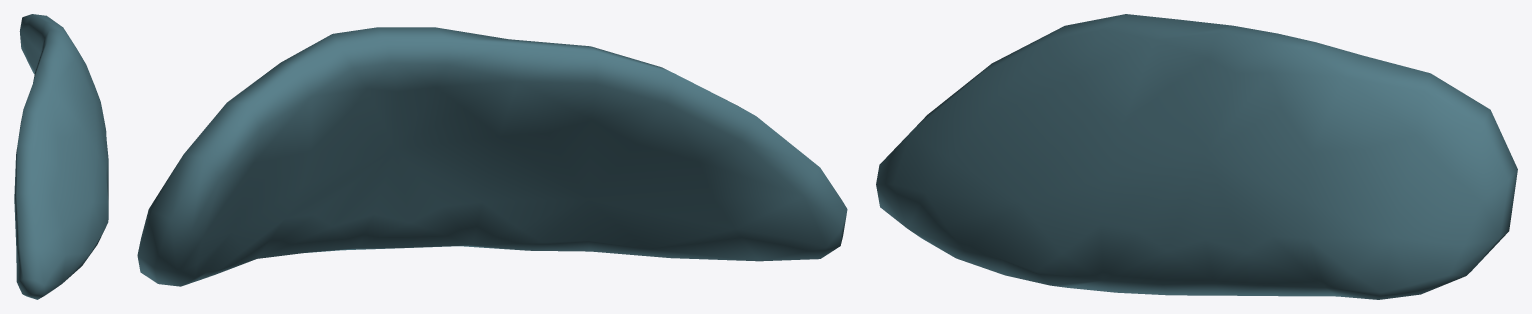
Rendered from Proximal_phalanx_4th_toe_right_001.glb.
3 views of the same model, side by side, from view 1: azimuth 30°, elevation 25°; view 2: azimuth 150°, elevation 25°; view 3: azimuth 270°, elevation 25° (orthographic). The views are drawn at different scales.
Visible parts, largest first — view 1: Proximal_phalanx_of_4th_finger_of_foot.r.001_Generated_Mesh_; view 2: Proximal_phalanx_of_4th_finger_of_foot.r.001_Generated_Mesh_; view 3: Proximal_phalanx_of_4th_finger_of_foot.r.001_Generated_Mesh_.
Boxes of the visible parts, bbox=[...] form: Proximal_phalanx_of_4th_finger_of_foot.r.001_Generated_Mesh_: bbox=[14, 14, 108, 299]; Proximal_phalanx_of_4th_finger_of_foot.r.001_Generated_Mesh_: bbox=[137, 27, 847, 286]; Proximal_phalanx_of_4th_finger_of_foot.r.001_Generated_Mesh_: bbox=[876, 14, 1517, 299].
Bounding box in the file's own units: 0.00351 × 0.00254 × 0.00507.
